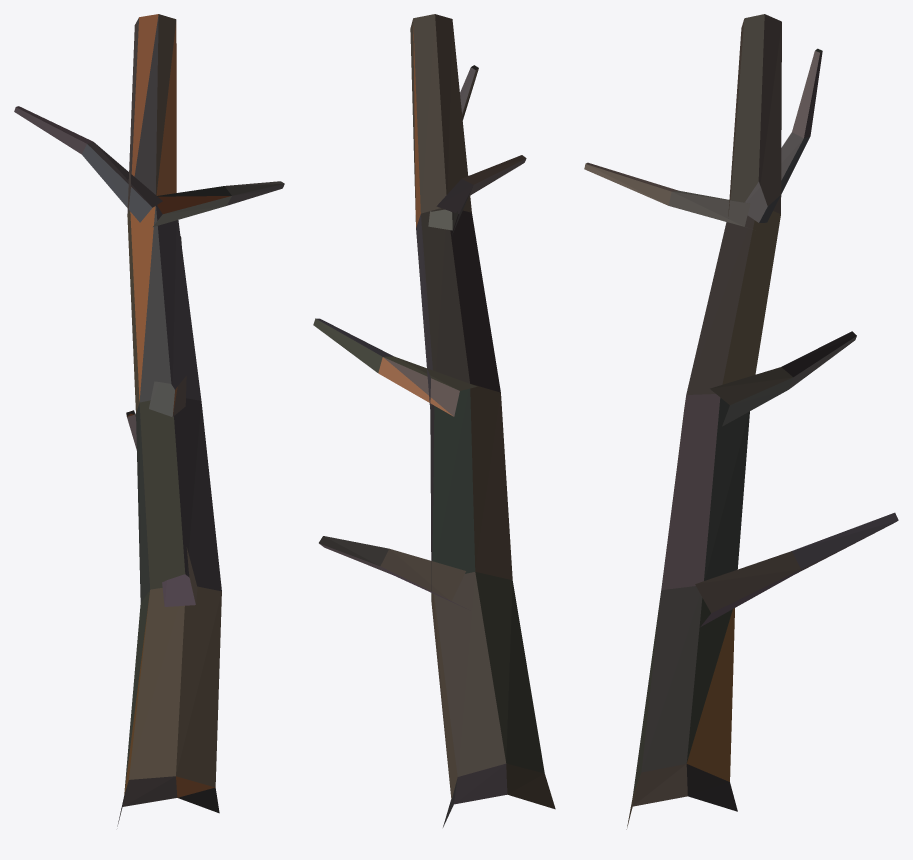
The model's file is Tree_Burnt_01.glb.
3 renders of one model, left to right at view 1: azimuth 30°, elevation 25°; view 2: azimuth 150°, elevation 25°; view 3: azimuth 270°, elevation 25°, orthographic. The views are drawn at different scales.
Visible parts, largest first — view 1: Tree_Burnt_01; view 2: Tree_Burnt_01; view 3: Tree_Burnt_01.
Part boxes in pixels (x1,y1,x2,y2): Tree_Burnt_01: (14, 14, 284, 826); Tree_Burnt_01: (313, 14, 555, 827); Tree_Burnt_01: (584, 14, 898, 829).
Size of the model in its own units: 1.86 by 7.53 by 2.65.
